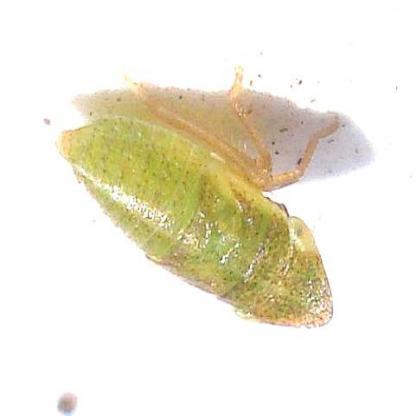green-leafhopper: (58, 68, 332, 329)
